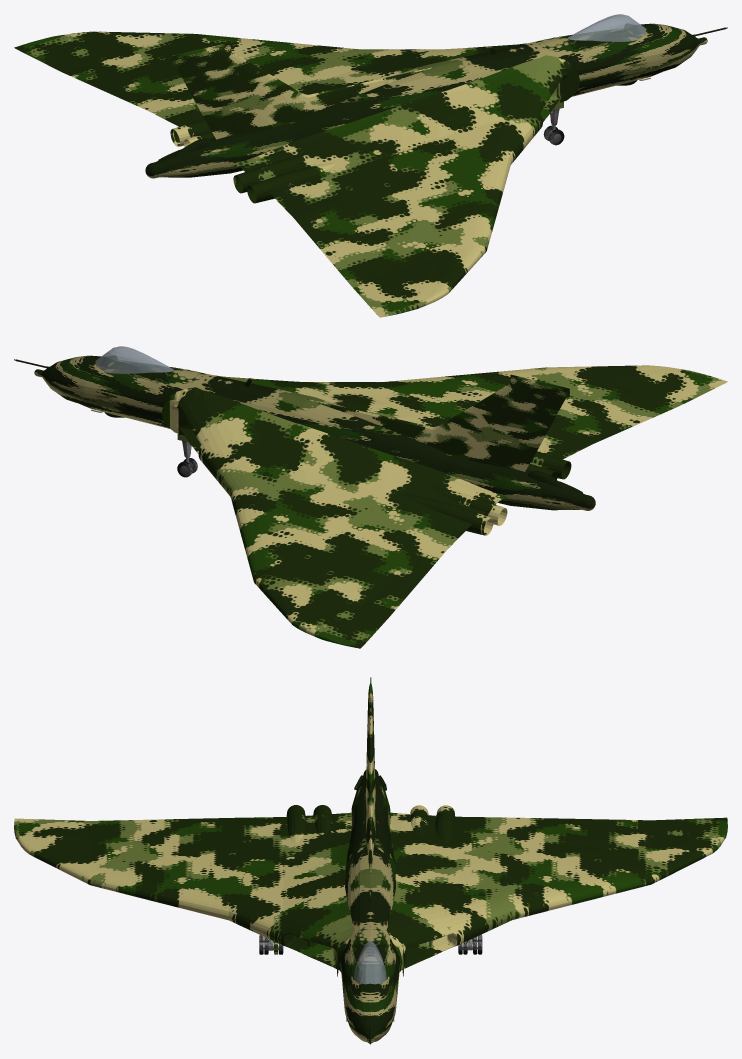
Rendered from Delta.glb.
3 views of the same model, one above another, from view 1: azimuth 30°, elevation 25°; view 2: azimuth 150°, elevation 25°; view 3: azimuth 270°, elevation 25° (orthographic). The views are drawn at different scales.
Parts seen in each view (by area): view 1: Shape_IndexedFaceSet.021, Shape_IndexedFaceSet.009, Shape_IndexedFaceSet.018, Shape_IndexedFaceSet.024, Shape_IndexedFaceSet.020; view 2: Shape_IndexedFaceSet.009, Shape_IndexedFaceSet.021, Shape_IndexedFaceSet.018, Shape_IndexedFaceSet.024, Shape_IndexedFaceSet.020; view 3: Shape_IndexedFaceSet.009, Shape_IndexedFaceSet.021, Shape_IndexedFaceSet.018, Shape_IndexedFaceSet.024, Shape_IndexedFaceSet.020.
Part boxes in pixels (left/top/right/bottom): Shape_IndexedFaceSet.021: left=233, top=55, right=579, bottom=317; Shape_IndexedFaceSet.009: left=14, top=31, right=526, bottom=146; Shape_IndexedFaceSet.018: left=145, top=23, right=727, bottom=178; Shape_IndexedFaceSet.024: left=171, top=42, right=434, bottom=139; Shape_IndexedFaceSet.020: left=567, top=14, right=646, bottom=41; Shape_IndexedFaceSet.009: left=162, top=387, right=507, bottom=648; Shape_IndexedFaceSet.021: left=216, top=365, right=727, bottom=479; Shape_IndexedFaceSet.018: left=14, top=355, right=595, bottom=510; Shape_IndexedFaceSet.024: left=307, top=374, right=569, bottom=471; Shape_IndexedFaceSet.020: left=95, top=346, right=174, bottom=373; Shape_IndexedFaceSet.009: left=386, top=805, right=727, bottom=976; Shape_IndexedFaceSet.021: left=14, top=805, right=354, bottom=976; Shape_IndexedFaceSet.018: left=340, top=769, right=400, bottom=1044; Shape_IndexedFaceSet.024: left=365, top=677, right=376, bottom=873; Shape_IndexedFaceSet.020: left=354, top=941, right=386, bottom=984.
Bounding box in the file's own units: 1434 × 424 × 1572.
Materials: 4 (3 with a texture image).
